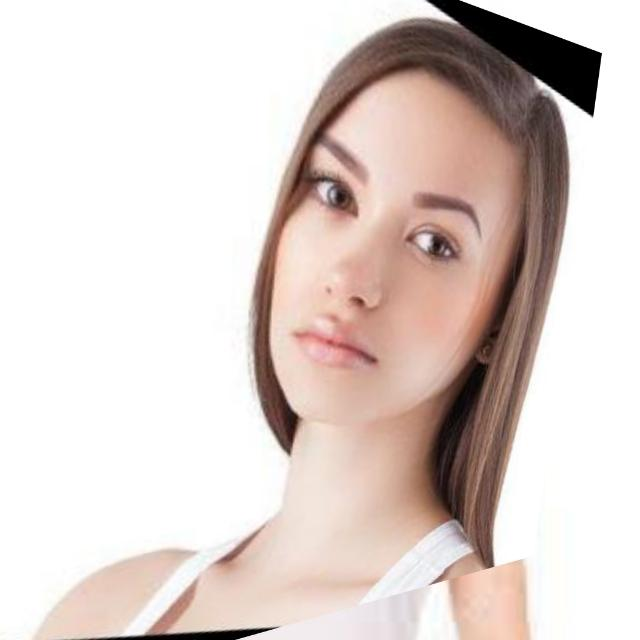Natural: (242, 116, 546, 441)
